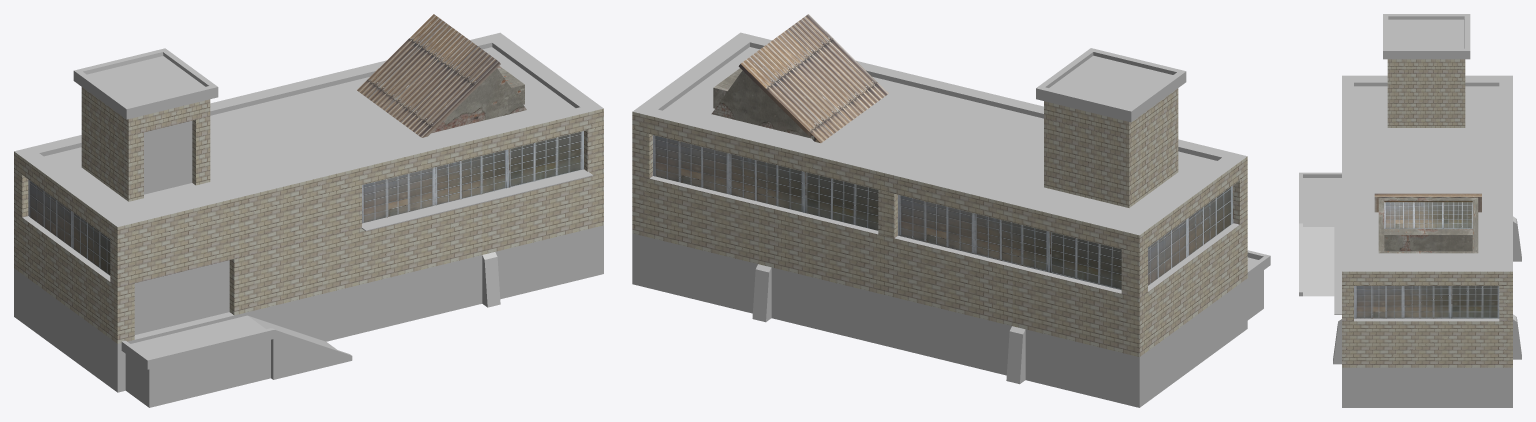
Rendered from hall1.fbx.
The picture shows the model from 3 angles, left to right: view 1: azimuth 30°, elevation 25°; view 2: azimuth 150°, elevation 25°; view 3: azimuth 270°, elevation 25°; orthographic projection. The views are drawn at different scales.
Parts seen in each view (by area): view 1: house, tower, solar; view 2: house, tower, solar; view 3: house, tower, solar.
Boxes of the visible parts, left/top/right/bottom form: house: left=14, top=32, right=603, bottom=407; tower: left=73, top=48, right=218, bottom=201; solar: left=357, top=14, right=526, bottom=137; house: left=632, top=32, right=1270, bottom=407; tower: left=1036, top=48, right=1186, bottom=207; solar: left=711, top=14, right=888, bottom=142; house: left=1299, top=75, right=1521, bottom=407; tower: left=1383, top=14, right=1470, bottom=127; solar: left=1374, top=193, right=1481, bottom=253.
Size of what is drawn, in the model's own units: 11.91 by 6.01 by 5.73.
